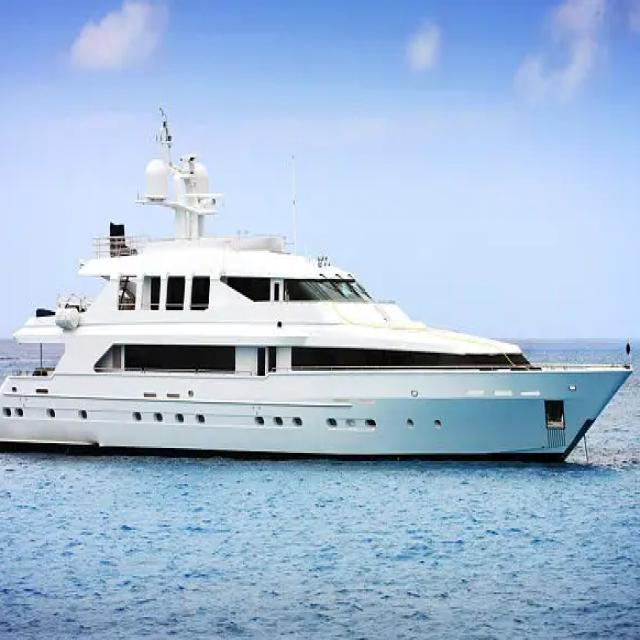houseboat: (0, 140, 640, 474)
